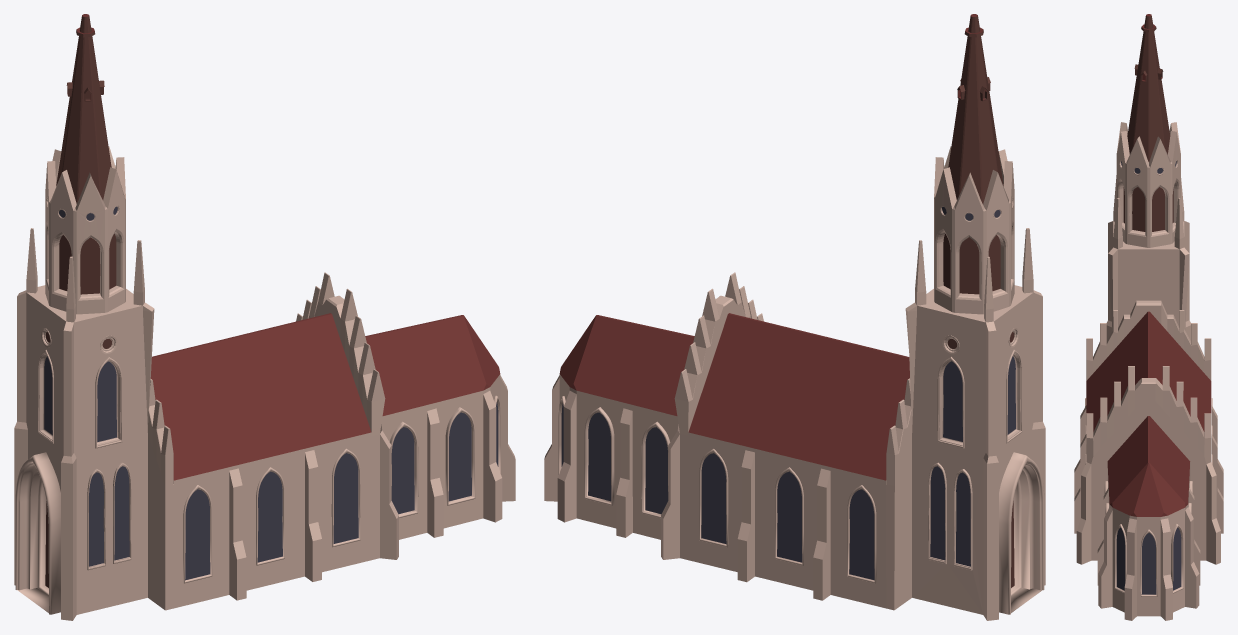
Rendered from Church_fxb_export.fbx.
3 renders of one model, left to right at view 1: azimuth 30°, elevation 25°; view 2: azimuth 150°, elevation 25°; view 3: azimuth 270°, elevation 25°, orthographic. The views are drawn at different scales.
Visible parts, largest first — view 1: Circle.002; view 2: Circle.002; view 3: Circle.002.
Part boxes in pixels (<box>): Circle.002: <box>14,14,515,620</box>; Circle.002: <box>544,14,1045,620</box>; Circle.002: <box>1074,14,1223,620</box>.
Size of the model in its own units: 1400 by 1632 by 495.
